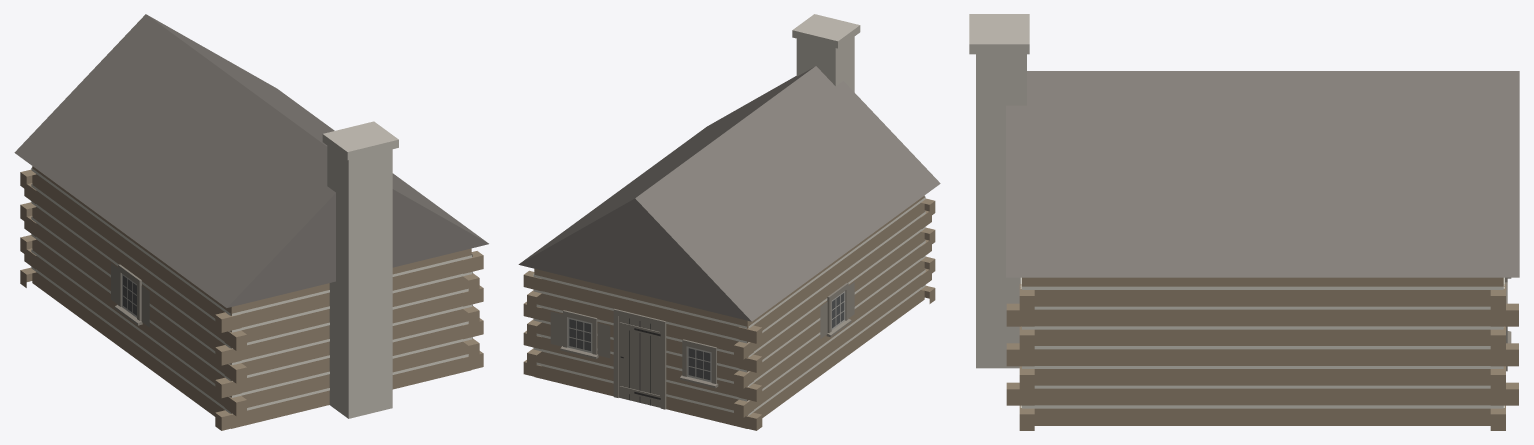
The model's file is recon_1835_blk_randolph_wells_d1_06__inferred_1835.glb.
The picture shows the model from 3 angles, left to right: view 1: azimuth 30°, elevation 25°; view 2: azimuth 150°, elevation 25°; view 3: azimuth 270°, elevation 25°; orthographic projection. The views are drawn at different scales.
Parts seen in each view (by area): view 1: recon_1835_blk_randolph_wells_d1_06__inferred_1835; view 2: recon_1835_blk_randolph_wells_d1_06__inferred_1835; view 3: recon_1835_blk_randolph_wells_d1_06__inferred_1835.
Part boxes in pixels (x1,y1,x2,y2): recon_1835_blk_randolph_wells_d1_06__inferred_1835: (14, 14, 488, 430); recon_1835_blk_randolph_wells_d1_06__inferred_1835: (518, 14, 940, 430); recon_1835_blk_randolph_wells_d1_06__inferred_1835: (969, 14, 1519, 430).
Bounding box in the file's own units: 5.73 × 5.61 × 8.58.
